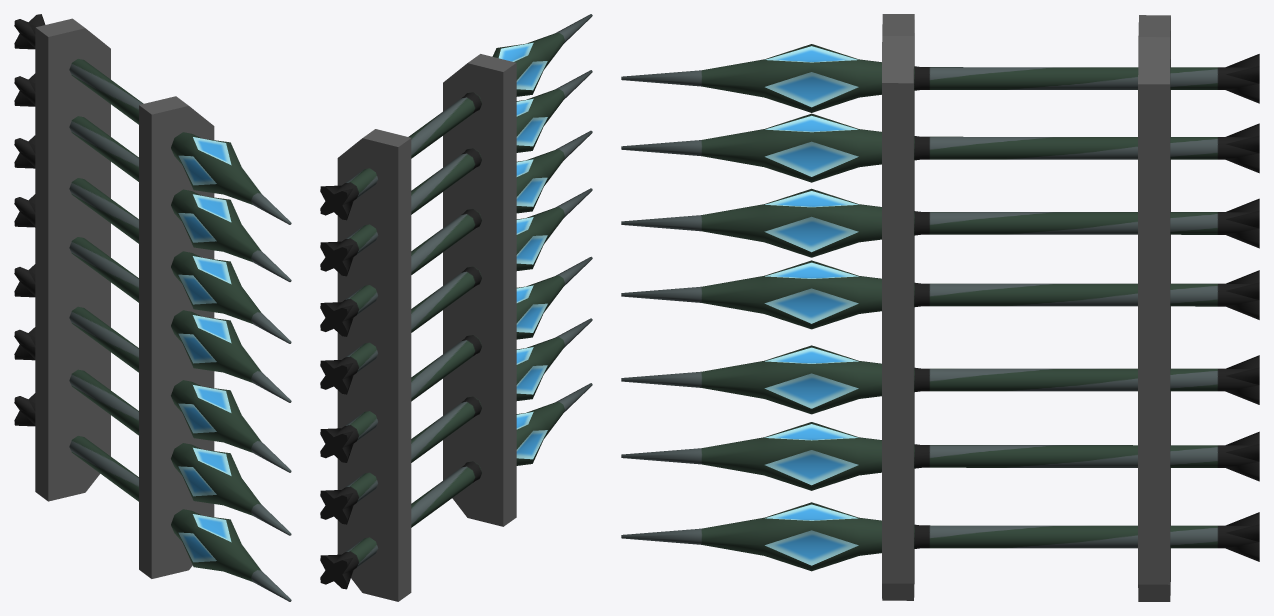
The model's file is rokets.fbx.
3 views of the same model, side by side, from view 1: azimuth 30°, elevation 25°; view 2: azimuth 150°, elevation 25°; view 3: azimuth 270°, elevation 25° (orthographic). The views are drawn at different scales.
Parts seen in each view (by area): view 1: Cube.002; view 2: Cube.002; view 3: Cube.002.
Part boxes in pixels (left/top/right/bottom): Cube.002: left=14, top=14, right=291, bottom=601; Cube.002: left=320, top=14, right=592, bottom=601; Cube.002: left=621, top=14, right=1259, bottom=601.
Size of the model in its own units: 20.76 by 143 by 147.
Materials: 2 (2 with a texture image).
